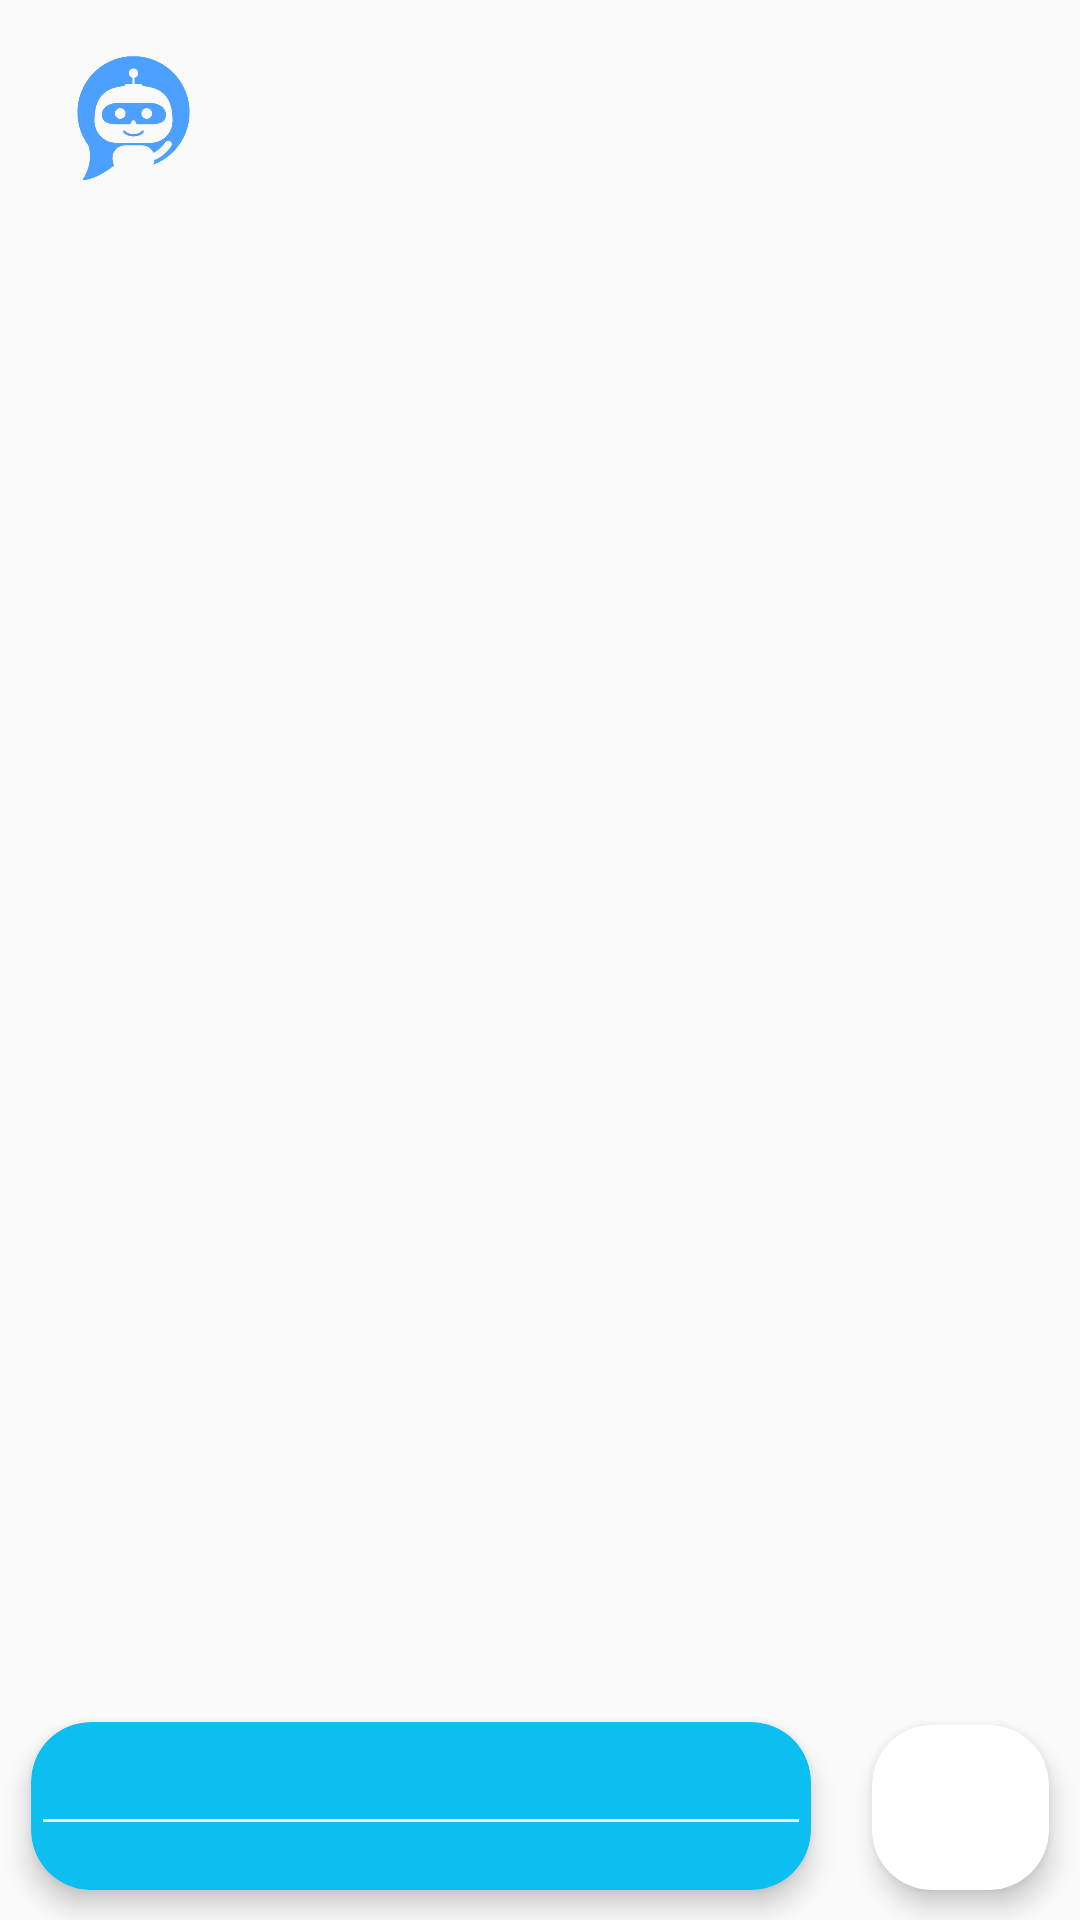

Where icons sit on this 1080 x 1920 app screen, as {"x1": x1, "y1": y1, "x2": x2, "y2": y2}:
bot: {"x1": 77, "y1": 56, "x2": 190, "y2": 180}
